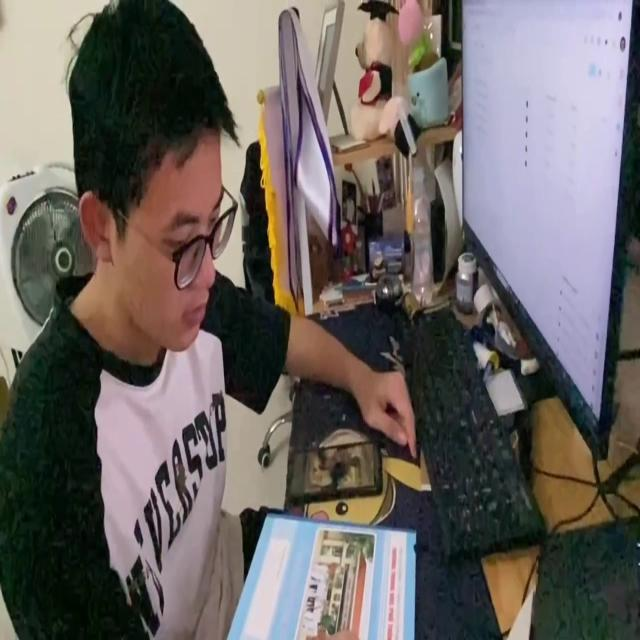book: (224, 512, 418, 640)
laptop: (460, 4, 640, 462)
phone: (285, 439, 384, 502)
student: (1, 0, 417, 640)
